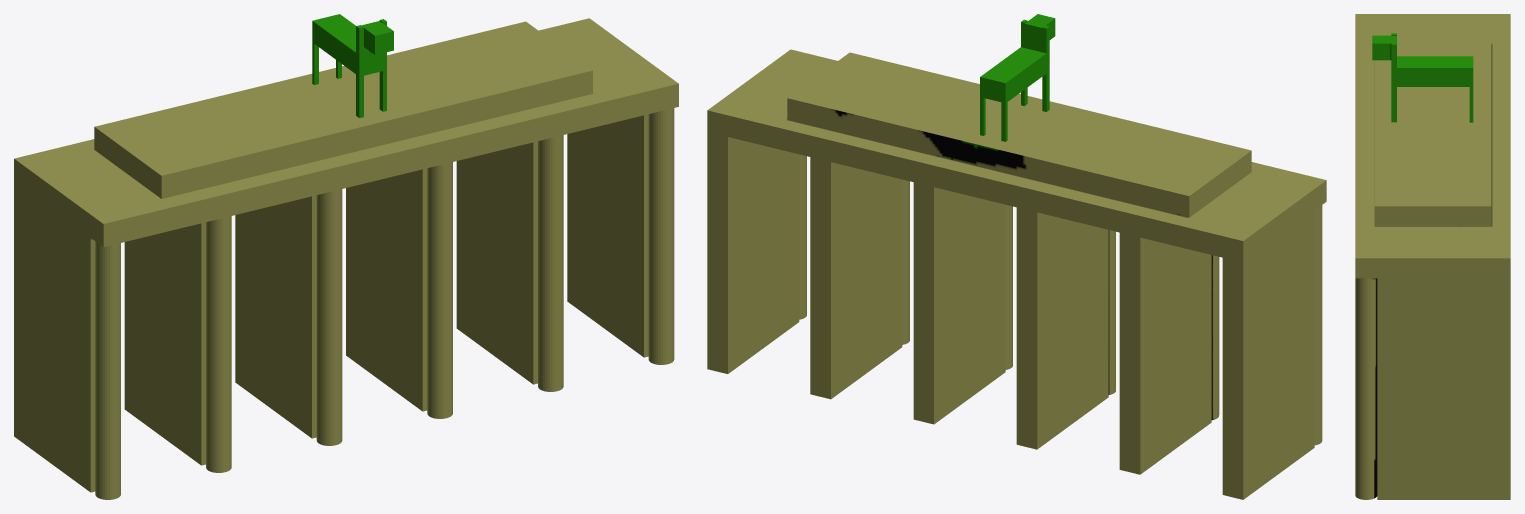
Rendered from Brama.obj.
3 views of the same model, side by side, from view 1: azimuth 30°, elevation 25°; view 2: azimuth 150°, elevation 25°; view 3: azimuth 270°, elevation 25° (orthographic). The views are drawn at different scales.
Visible parts, largest first — view 1: Cube.008; view 2: Cube.008; view 3: Cube.008.
Boxes of the visible parts, bbox=[...] form: Cube.008: bbox=[14, 14, 678, 499]; Cube.008: bbox=[707, 14, 1326, 499]; Cube.008: bbox=[1355, 14, 1510, 499].
Bounding box in the file's own units: 52 × 33.78 × 14.
Materials: 1 (1 with a texture image).
